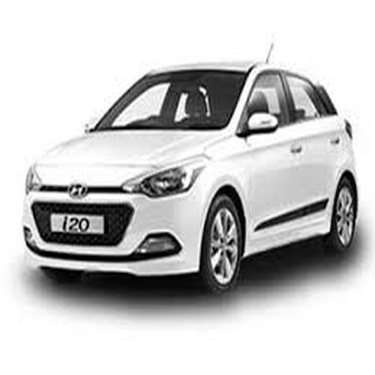car: (15, 39, 360, 297)
